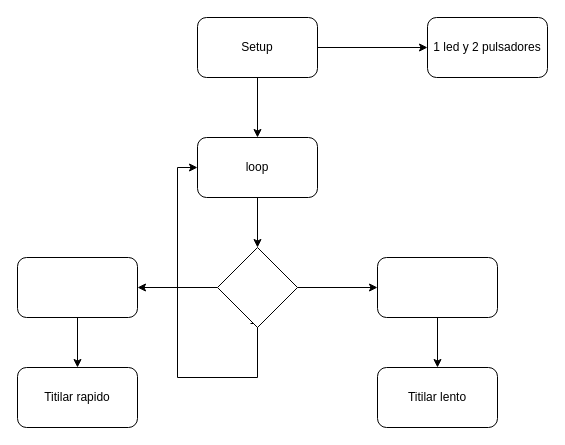
This 565x445 diagram has some shape labels left out. The centre of each missing label's shape, as x and y in pixels:
opciones: the point at 257,287
Presionar pulsador 1: the point at 77,287
Presionar pulsador 2: the point at 437,287
